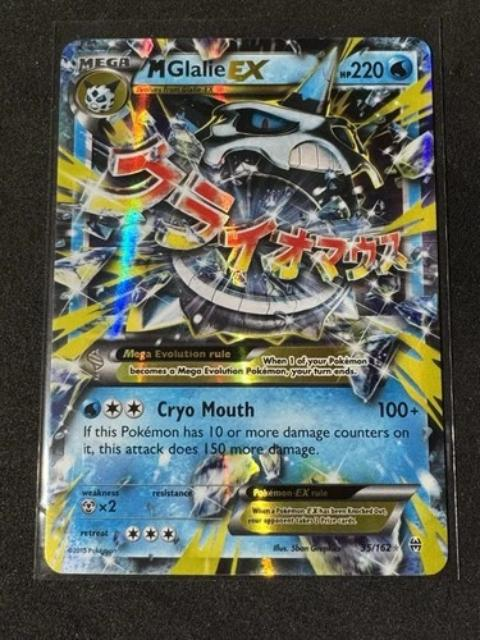Card: (37, 24, 451, 580)
Name: (143, 50, 274, 82)
